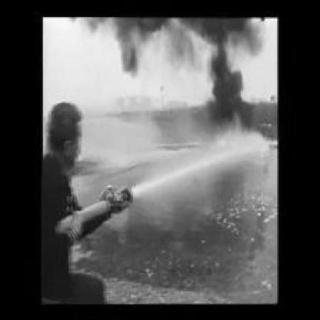Smoke: (83, 16, 261, 104)
